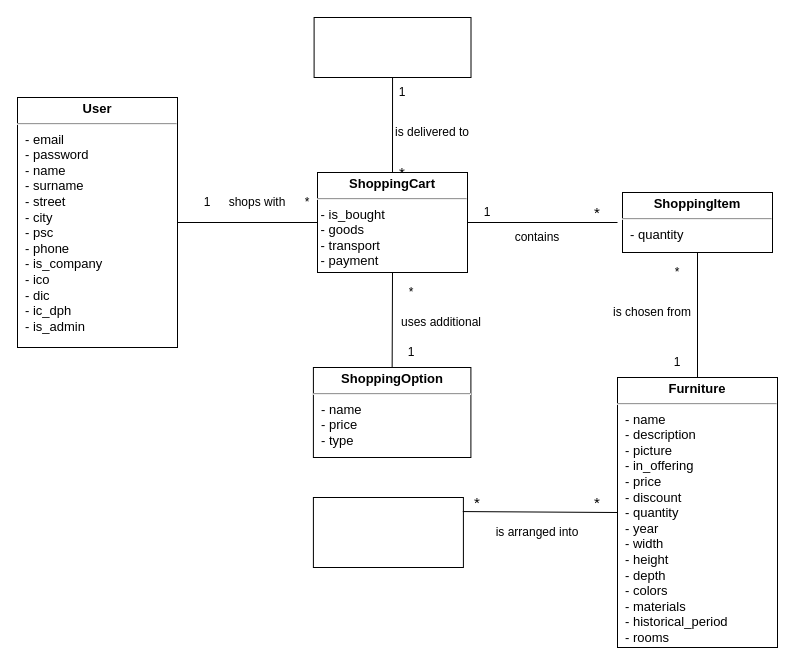
Image size: 795x665. Some labels were removed from this diagram. The centre of each missing label's shape, as x and y in pixels:
"Category - name - type" goes at (x=387, y=532).
"DeliveryPlace - name" goes at (x=392, y=47).
